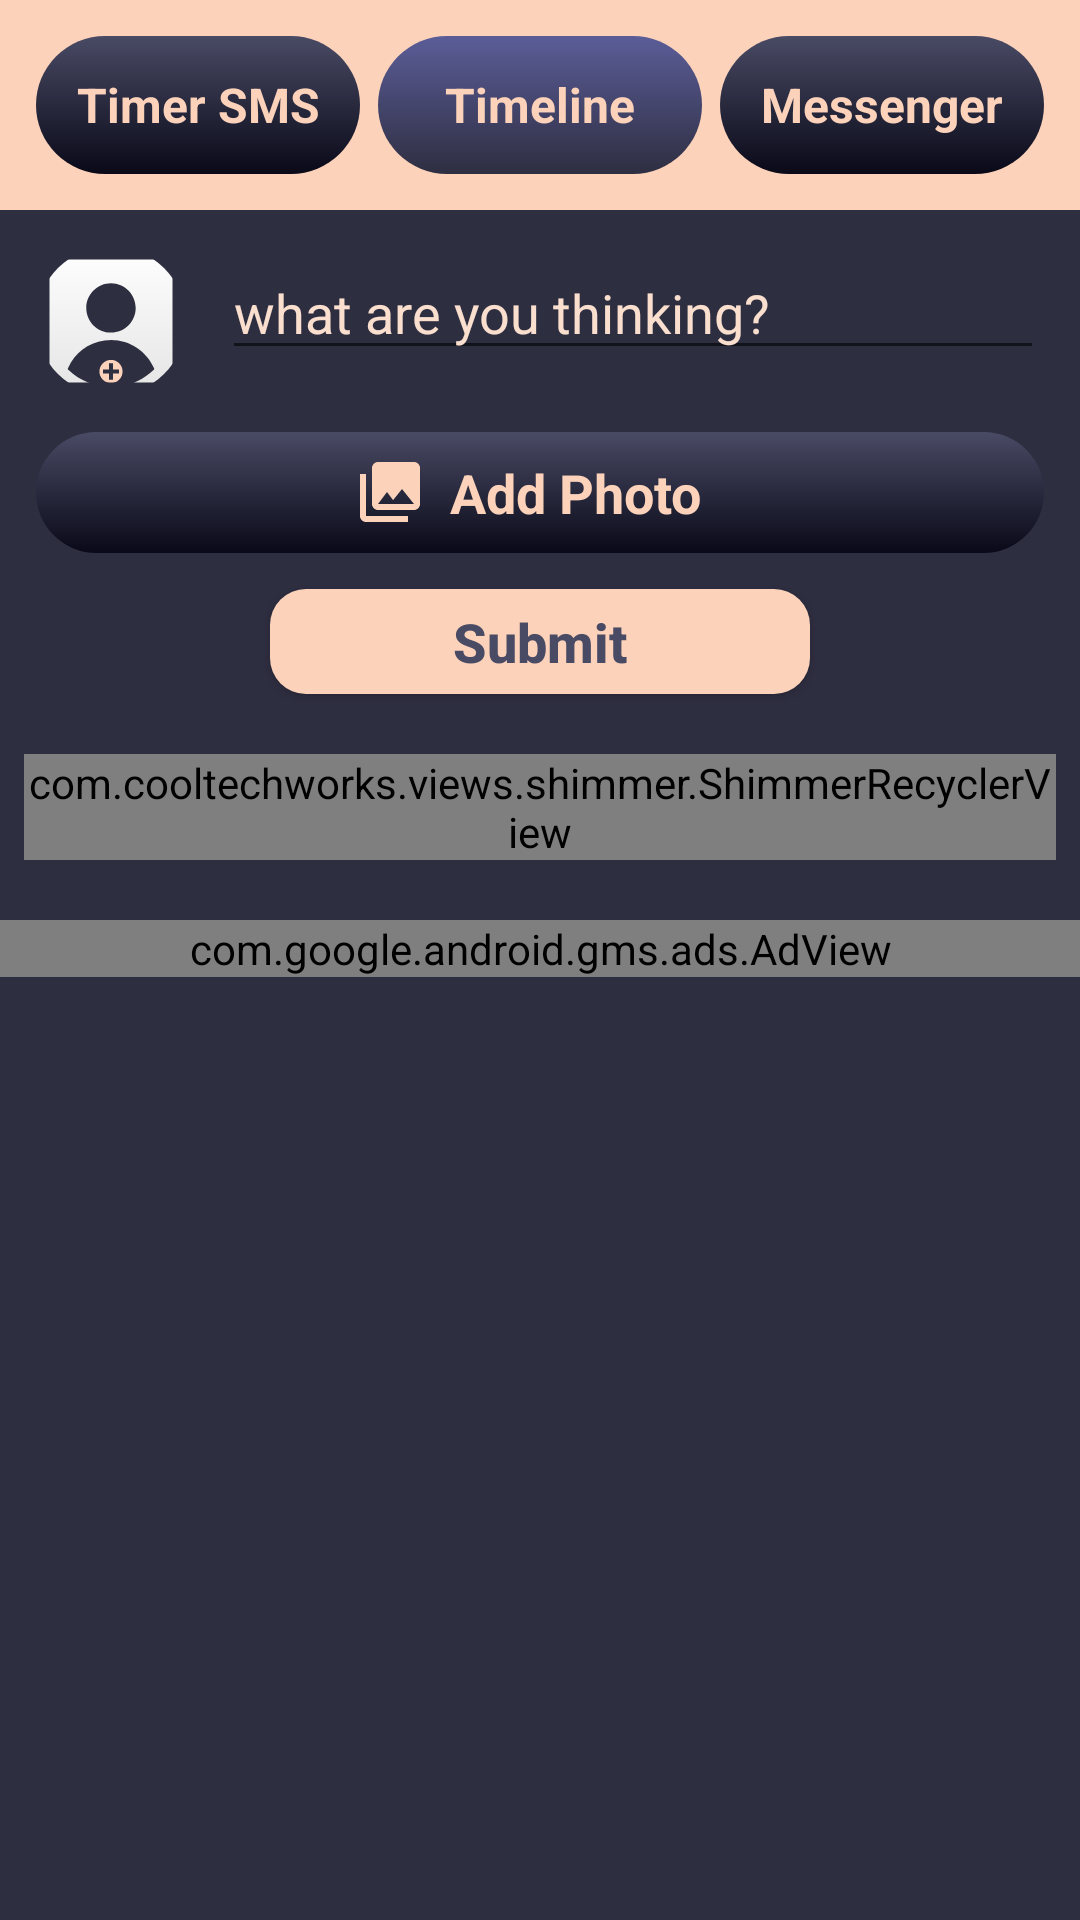

Icons on this 1080x1920 Android screen, each with the point to tap as [x,y]:
photo library: [390,492]
